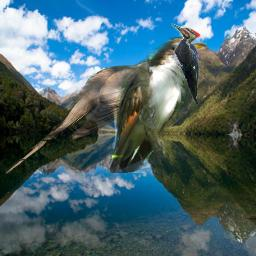Cuckoo: (5, 58, 186, 175), (109, 37, 207, 173)
Woodpecker: (170, 23, 201, 105)
